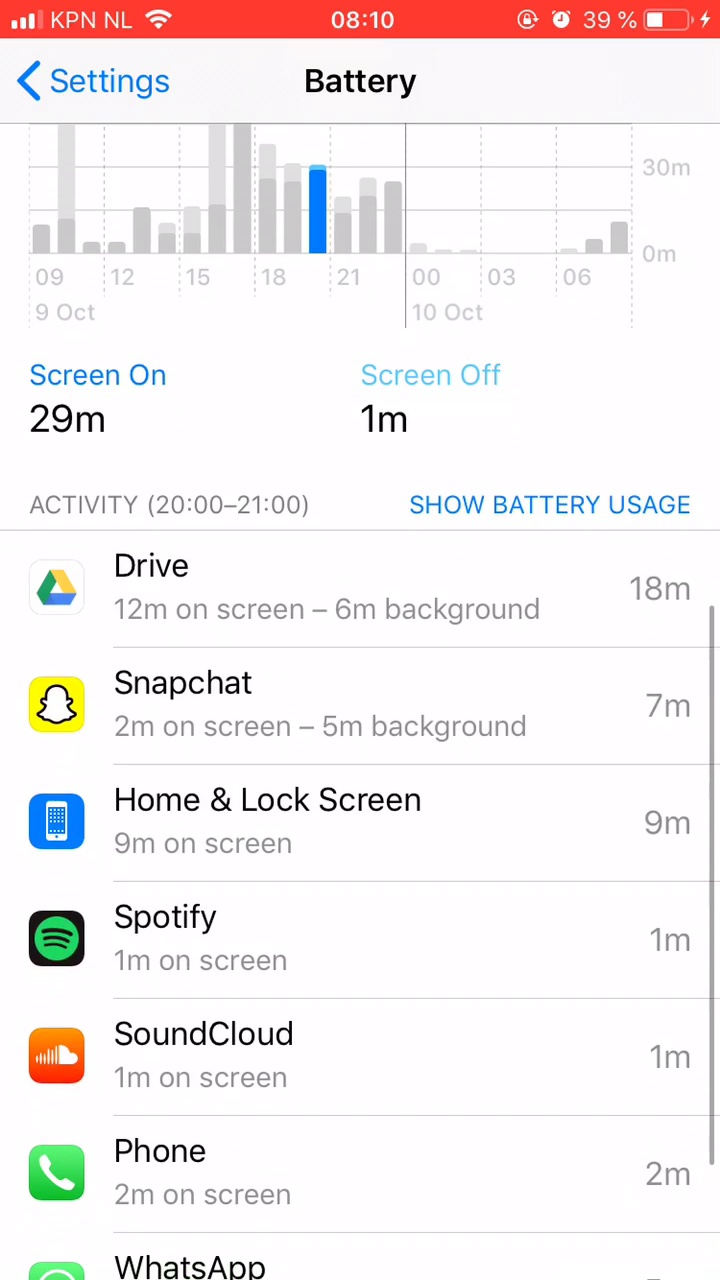activity: (30, 475, 331, 522)
app: (33, 545, 704, 631), (31, 667, 702, 753), (22, 779, 693, 865), (27, 900, 698, 986), (29, 1010, 700, 1096), (31, 1124, 702, 1210)
